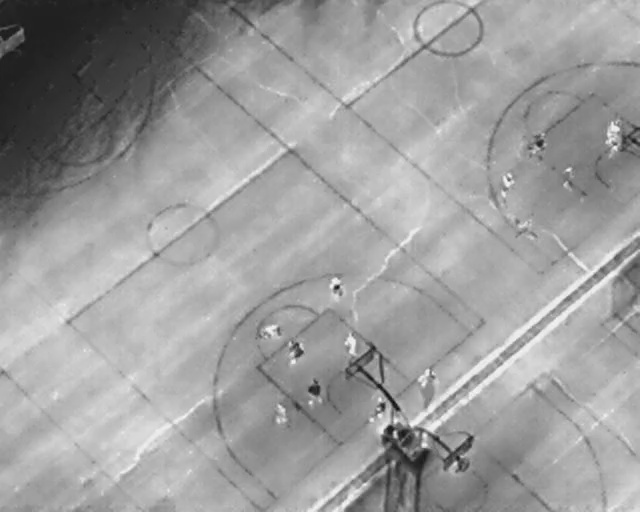Person: (287, 338, 303, 365), (307, 376, 321, 406), (373, 395, 387, 422), (420, 368, 435, 390), (275, 402, 287, 427), (345, 331, 357, 356), (565, 161, 575, 189), (330, 276, 343, 297), (263, 324, 282, 338), (503, 171, 513, 197), (610, 135, 620, 156)
